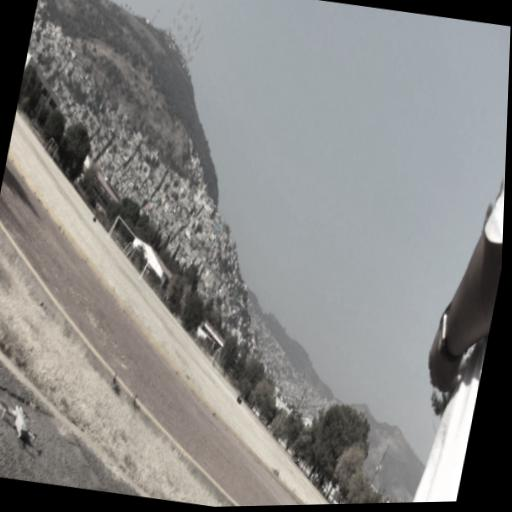drones: (0, 392, 51, 451)
